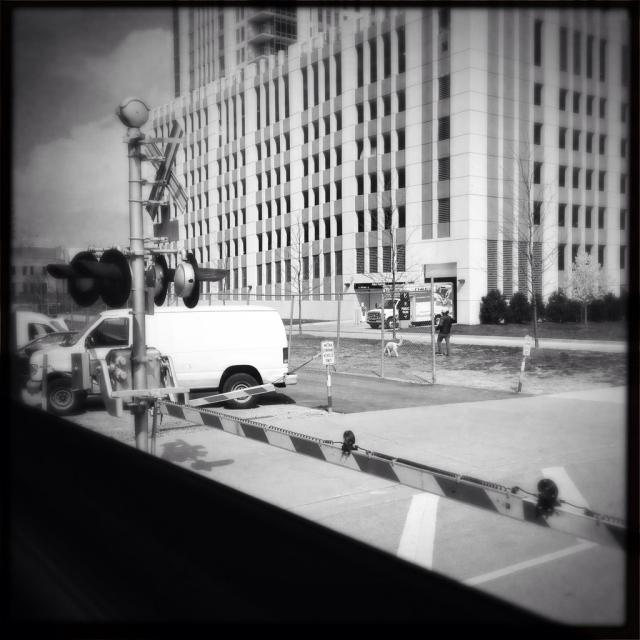car: (74, 291, 301, 416)
